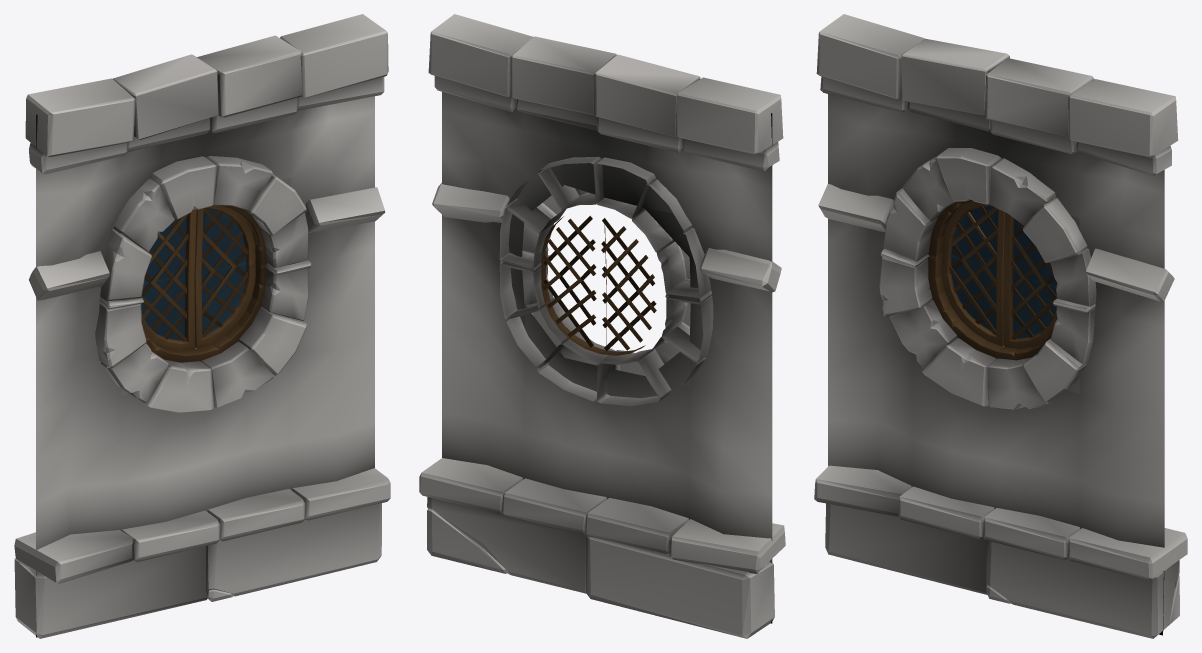
File: wall_window_E.FBX
3 views of the same model, side by side, from view 1: azimuth 30°, elevation 25°; view 2: azimuth 150°, elevation 25°; view 3: azimuth 330°, elevation 25° (orthographic). The views are drawn at different scales.
Parts seen in each view (by area): view 1: wall_window_E; view 2: wall_window_E; view 3: wall_window_E.
Boxes of the visible parts, x1,y1,x2,y2 form: wall_window_E: (14,14,390,638); wall_window_E: (419,14,785,638); wall_window_E: (814,14,1187,638).
Size of the model in its own units: 4.1 by 6.04 by 0.8582.
